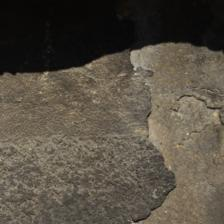Crack: (63, 24, 119, 199)
